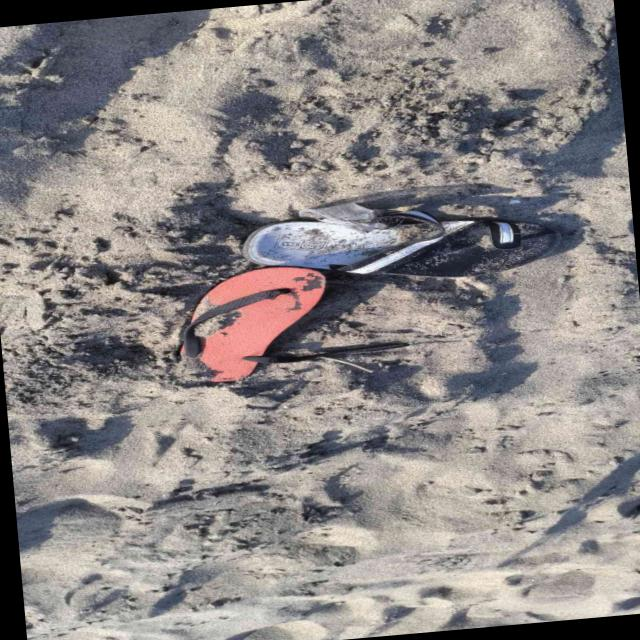dep: (243, 209, 561, 276), (180, 266, 326, 381)
